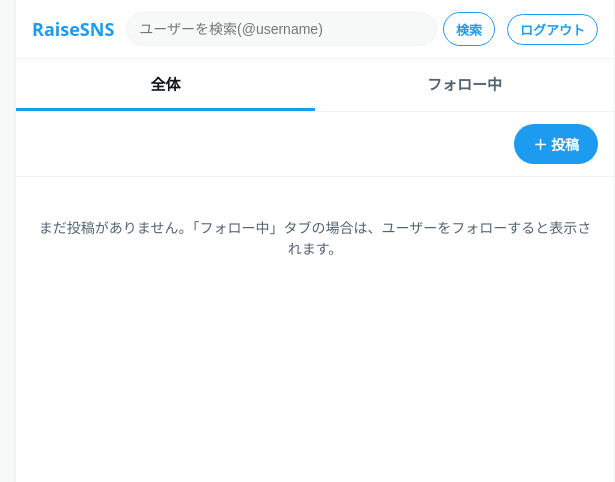
Test: TimelinePage › creates a post and prepends it to the list on submit
Expected: the button "全体" is shown, x1=16 y1=59 x2=315 y2=111
Click the button "＋ 投稿" at (556, 144), box x1=514 y1=124 x2=598 y2=164
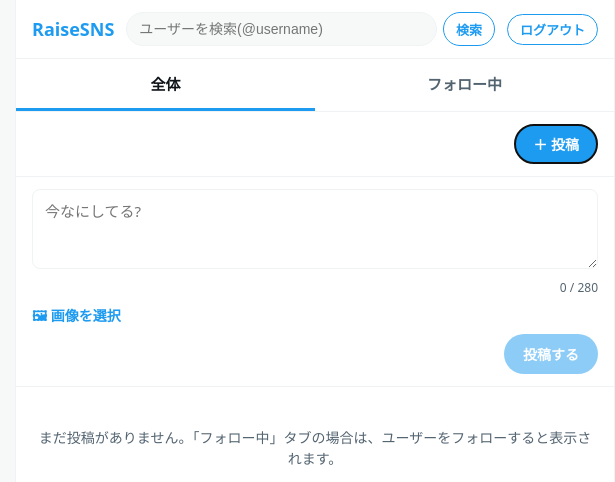
Type "新しい投稿" into the text box with placeholder "今なにしてる?" at (315, 229), box x1=32 y1=189 x2=598 y2=269
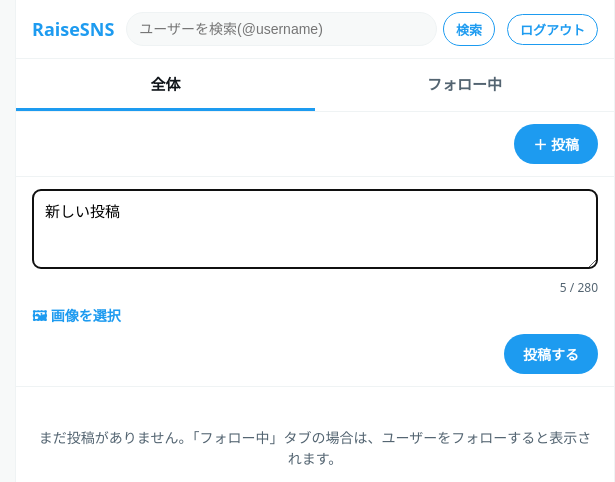
Click the button "投稿する" at (551, 354), box x1=504 y1=334 x2=598 y2=374
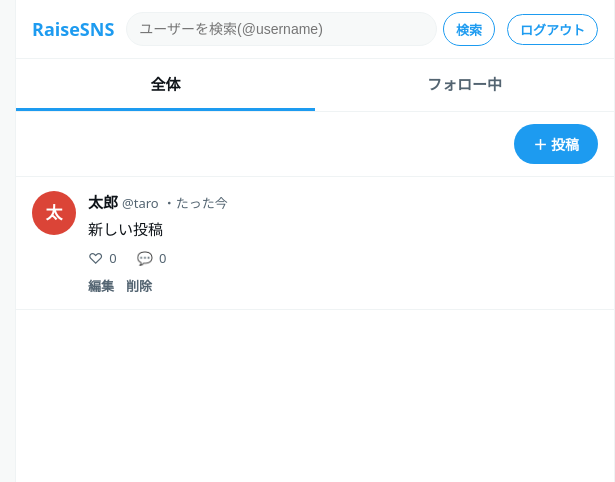
Expected: the text "新しい投稿" is shown, x1=88 y1=218 x2=163 y2=238
Expected: the text box with placeholder "今なにしてる?" is gone
